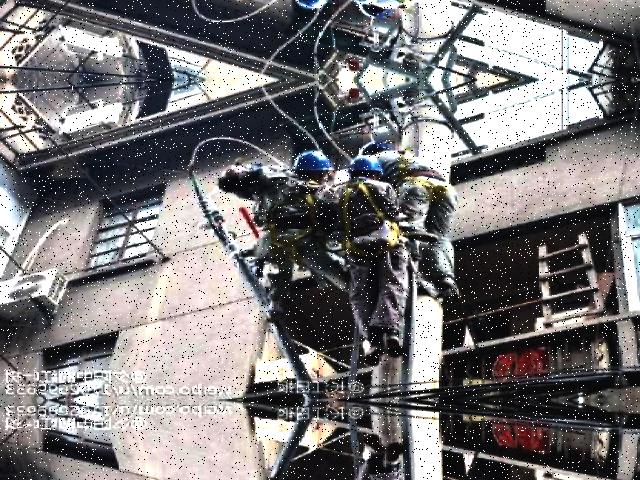Helmet: (290, 146, 339, 178), (345, 152, 390, 178)
